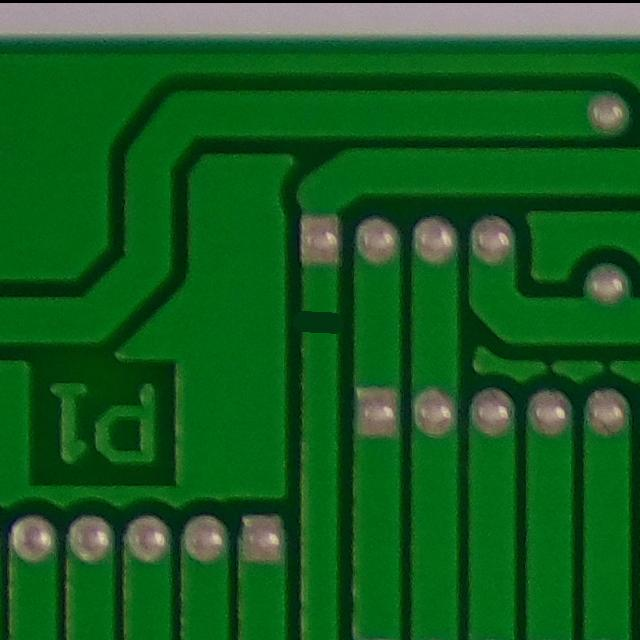open_circuit: (290, 289, 350, 351)
